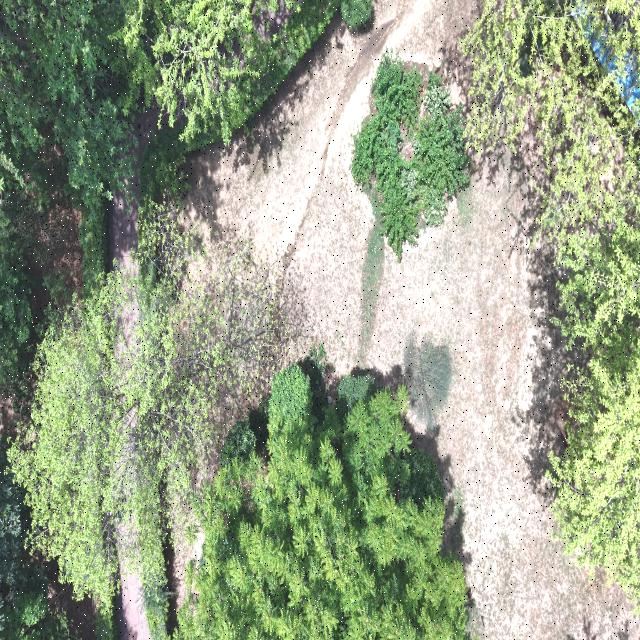DRY_AREA: (184, 0, 639, 639), (185, 0, 639, 638), (186, 0, 471, 365), (108, 106, 157, 278), (108, 106, 157, 275), (108, 107, 157, 275), (108, 105, 158, 269), (108, 107, 157, 274), (108, 108, 157, 268), (108, 109, 156, 271), (13, 192, 82, 303), (15, 194, 82, 299), (114, 522, 150, 639), (114, 559, 150, 639), (115, 572, 149, 639), (252, 0, 294, 39), (0, 398, 13, 436)
PATHWAYS: (108, 109, 157, 271)
VEGETATION_TREE: (0, 0, 338, 639), (0, 0, 338, 451), (0, 0, 338, 397), (9, 207, 284, 637), (463, 0, 639, 610), (178, 366, 466, 638), (214, 349, 465, 637), (0, 0, 135, 410), (0, 0, 138, 398), (125, 0, 338, 216), (0, 0, 138, 288), (462, 0, 639, 187), (118, 0, 337, 146), (548, 333, 639, 610), (350, 52, 469, 260), (120, 0, 279, 143), (0, 189, 81, 411), (0, 476, 69, 639), (0, 212, 45, 395), (403, 336, 451, 430), (359, 187, 383, 353), (219, 402, 267, 463), (401, 449, 443, 504), (220, 418, 255, 464), (337, 374, 374, 415), (340, 0, 371, 31)
